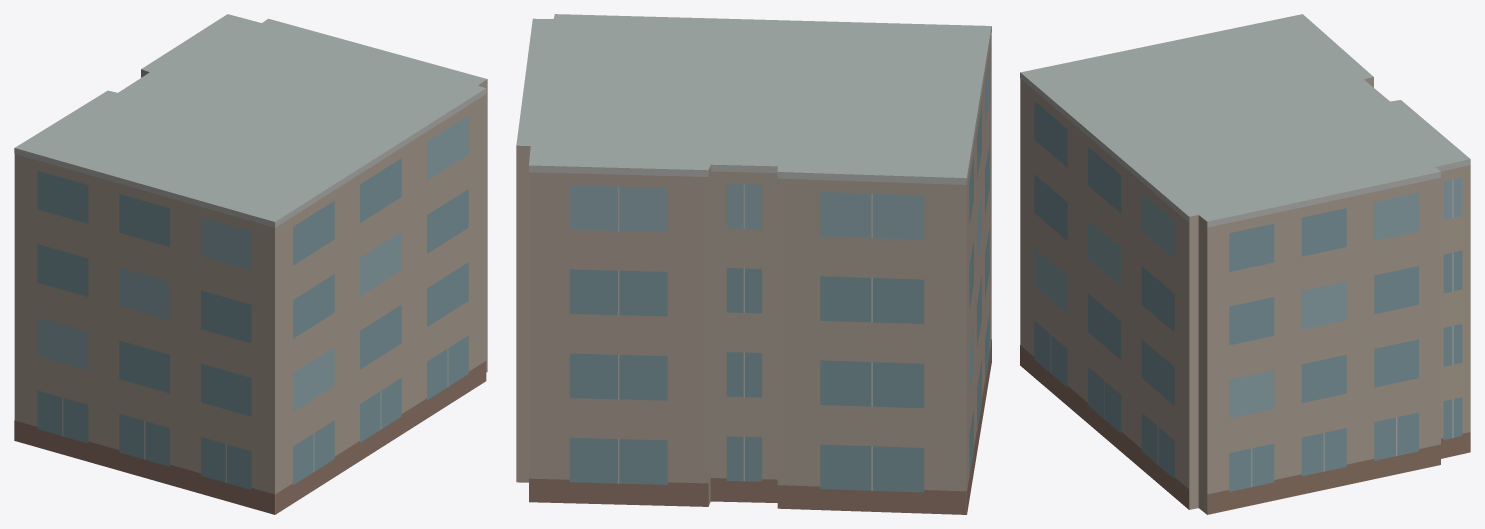
File: survey-upis-32738262.glb
The picture shows the model from 3 angles, left to right: view 1: azimuth 30°, elevation 25°; view 2: azimuth 150°, elevation 25°; view 3: azimuth 270°, elevation 25°; orthographic projection. The views are drawn at different scales.
Visible parts, largest first — view 1: survey-upis-32738262.tmp; view 2: survey-upis-32738262.tmp; view 3: survey-upis-32738262.tmp.
Boxes of the visible parts, left/top/right/bottom form: survey-upis-32738262.tmp: left=14, top=14, right=487, bottom=514; survey-upis-32738262.tmp: left=516, top=14, right=991, bottom=514; survey-upis-32738262.tmp: left=1020, top=14, right=1470, bottom=514.
Bounding box in the file's own units: 18.55 × 12.2 × 17.
